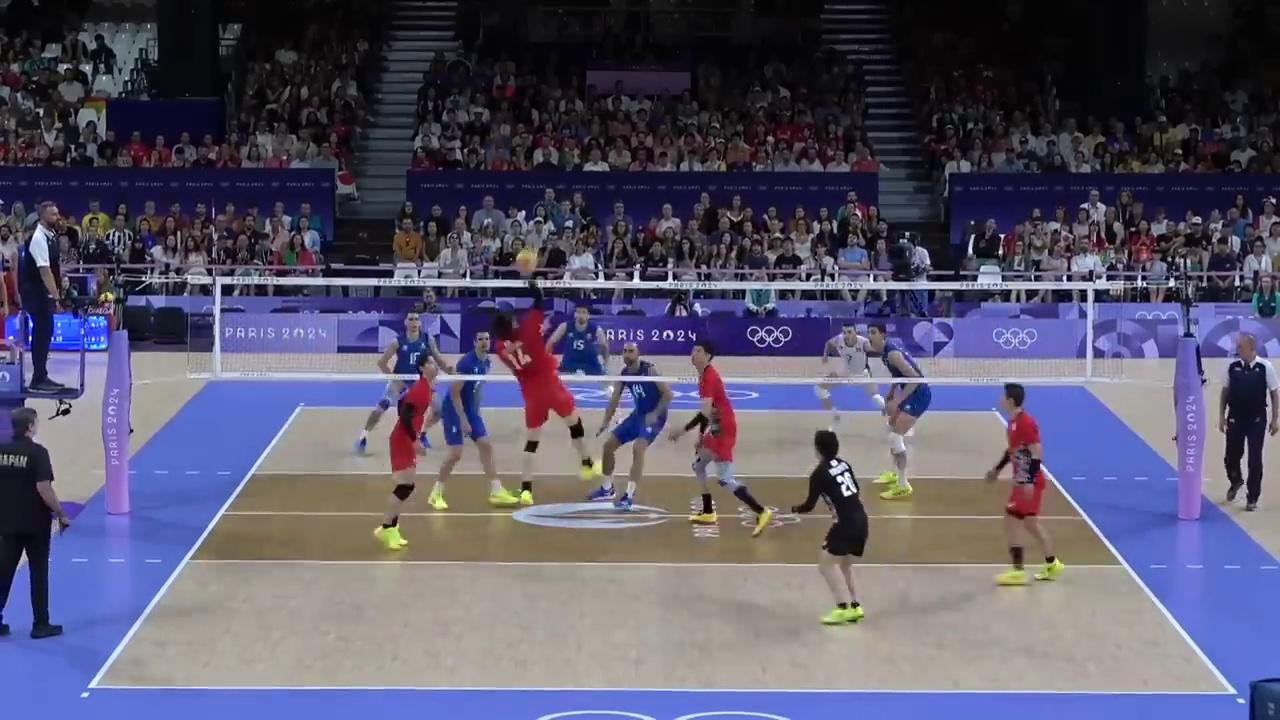ball: (515, 250, 538, 275)
